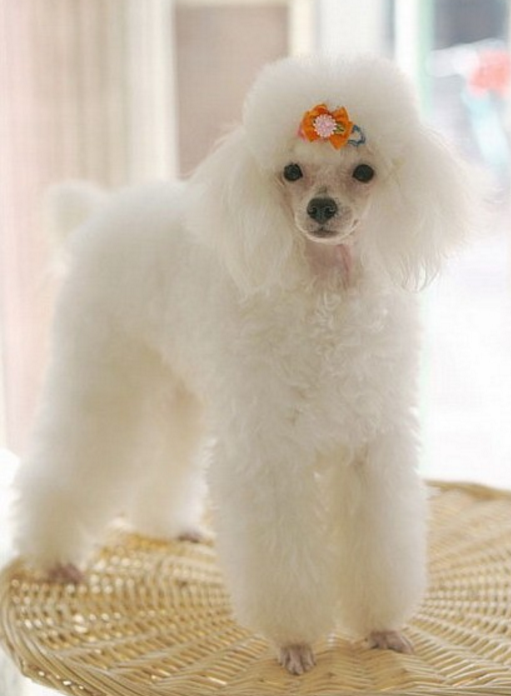dog: (185, 61, 479, 325)
